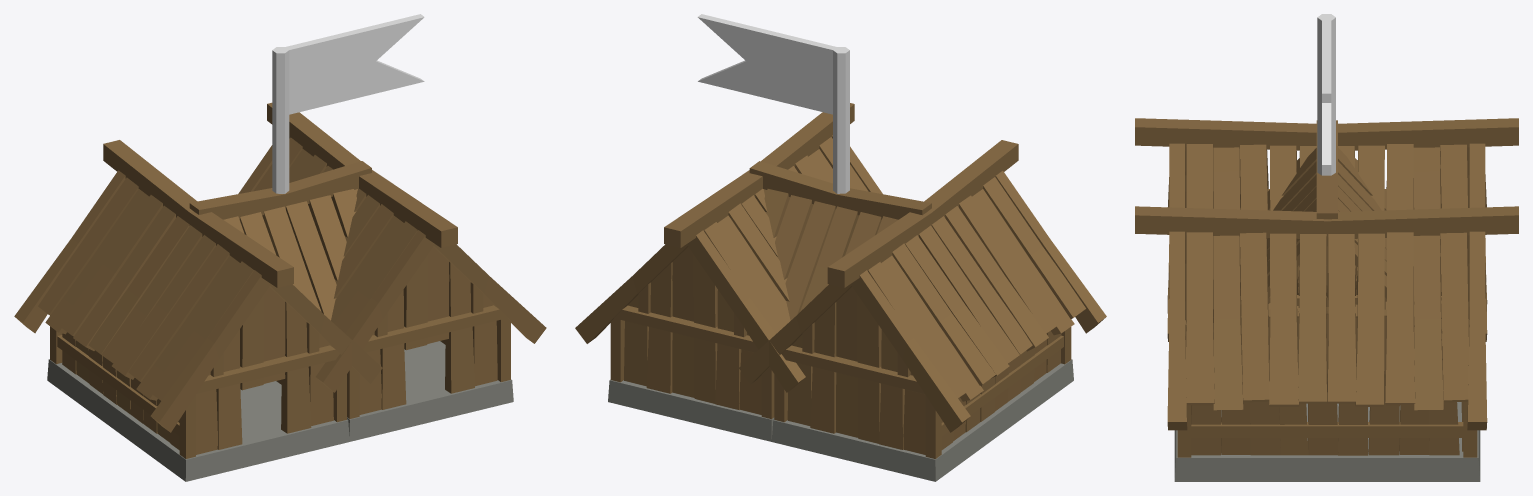
Rendered from Big House.fbx.
3 renders of one model, left to right at view 1: azimuth 30°, elevation 25°; view 2: azimuth 150°, elevation 25°; view 3: azimuth 270°, elevation 25°, orthographic. The views are drawn at different scales.
Visible parts, largest first — view 1: Big House; view 2: Big House; view 3: Big House.
Part boxes in pixels (x1,y1,x2,y2): Big House: [14, 14, 546, 481]; Big House: [575, 14, 1106, 481]; Big House: [1135, 14, 1518, 481].
Bounding box in the file's own units: 151 × 127 × 117.
